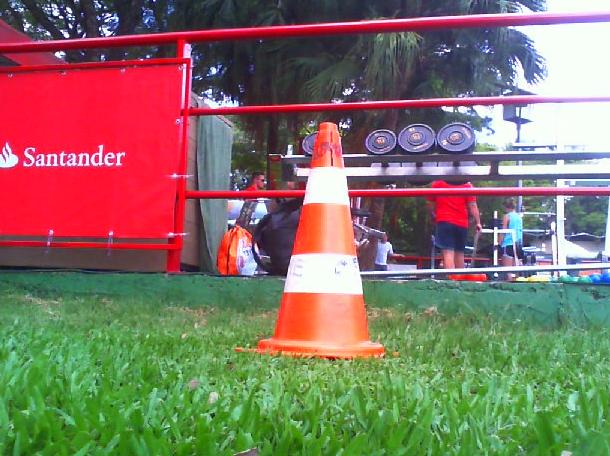0 cone: (237, 123, 383, 355)
